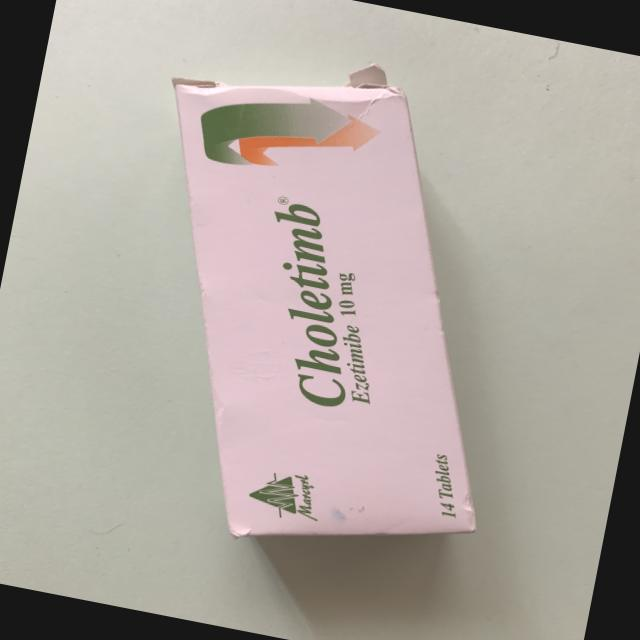medicine_packaging: (57, 18, 580, 606)
